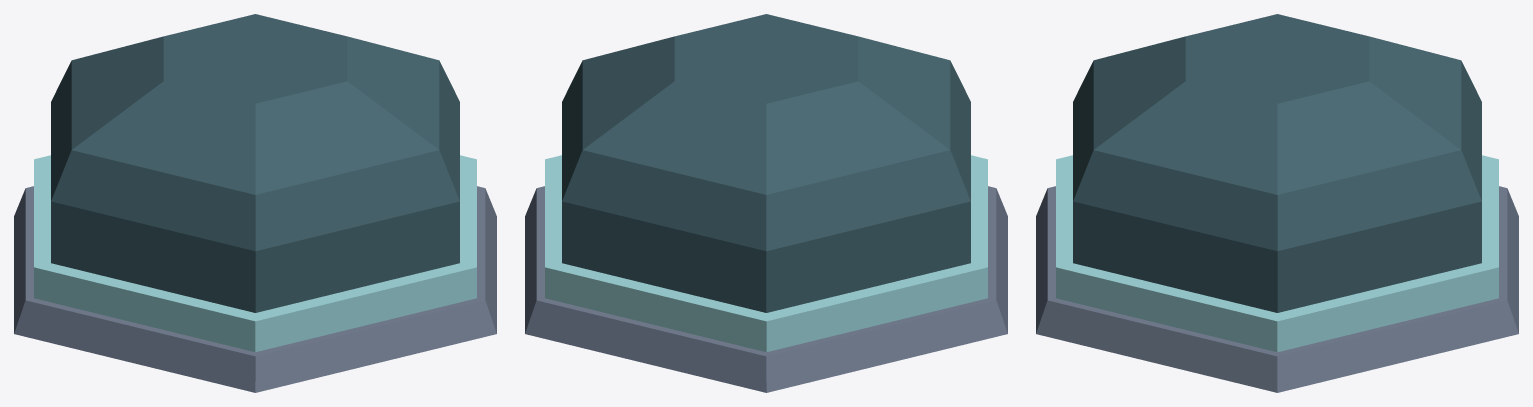
File: hangar-vitre.lod0.glb
3 views of the same model, side by side, from view 1: azimuth 30°, elevation 25°; view 2: azimuth 150°, elevation 25°; view 3: azimuth 270°, elevation 25° (orthographic).
Visible parts, largest first — view 1: hangar_roundGlass; view 2: hangar_roundGlass; view 3: hangar_roundGlass.
Boxes of the visible parts, left/top/right/bottom form: hangar_roundGlass: left=14, top=14, right=496, bottom=392; hangar_roundGlass: left=525, top=14, right=1007, bottom=392; hangar_roundGlass: left=1036, top=14, right=1518, bottom=392.
Size of the model in its own units: 18 by 7.7 by 15.59.
Materials: 1 (1 with a texture image).
